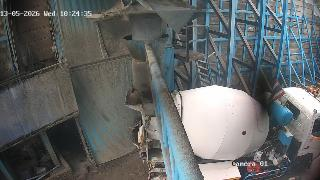cement_mixer_truck: (122, 84, 320, 180)
swing_chute: (121, 33, 172, 97)
